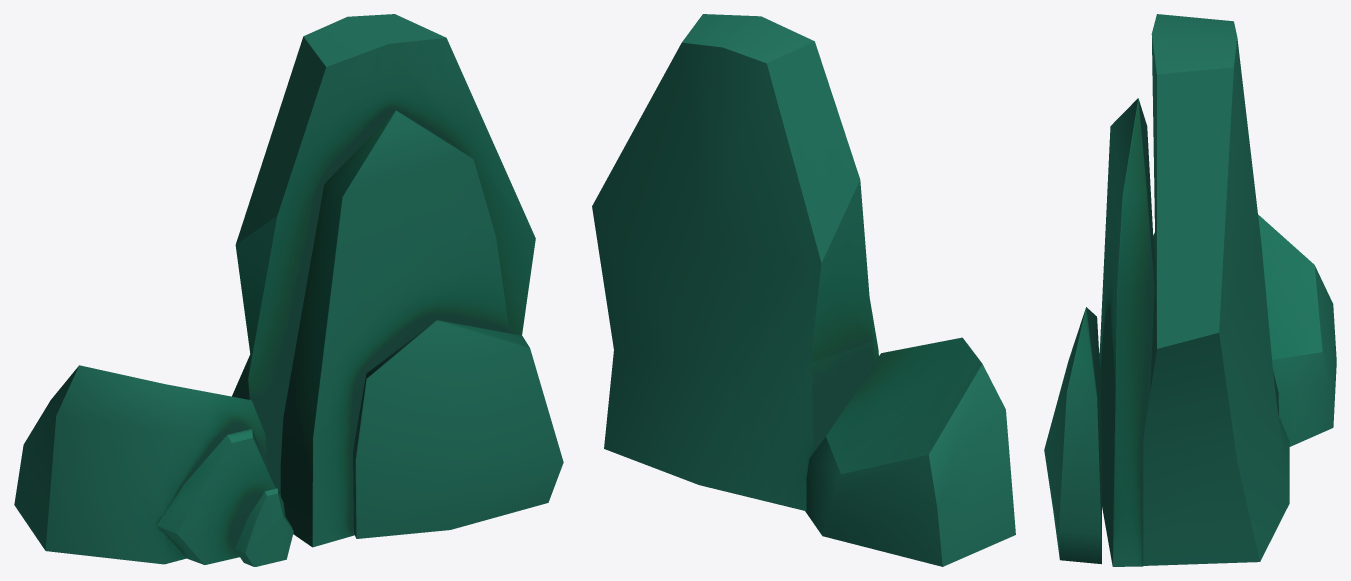
The model's file is stone01.fbx.
The picture shows the model from 3 angles, left to right: view 1: azimuth 30°, elevation 25°; view 2: azimuth 150°, elevation 25°; view 3: azimuth 270°, elevation 25°; orthographic projection. The views are drawn at different scales.
Parts seen in each view (by area): view 1: stone01_geo; view 2: stone01_geo; view 3: stone01_geo.
Part boxes in pixels (x1,y1,x2,y2): stone01_geo: [14, 14, 563, 566]; stone01_geo: [592, 14, 1015, 566]; stone01_geo: [1044, 14, 1336, 566].
Bounding box in the file's own units: 215 × 206 × 116.
1 material, 1 textured.
